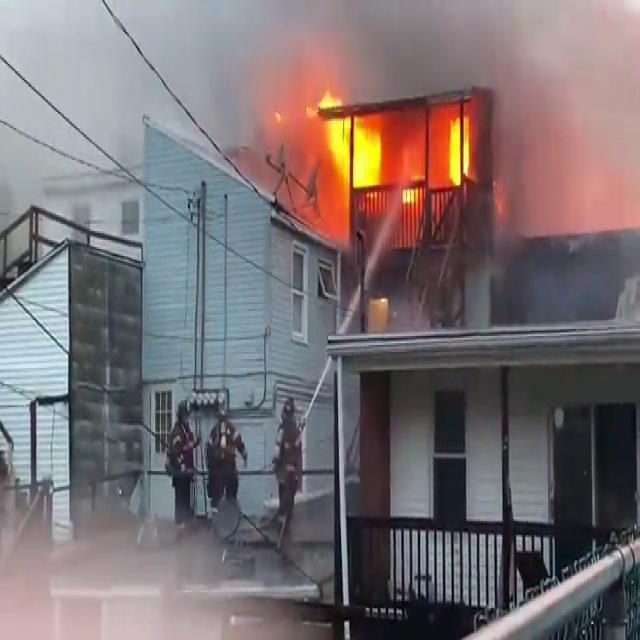Fire: (302, 81, 388, 216), (392, 98, 475, 206)
Smoke: (475, 0, 640, 233)
